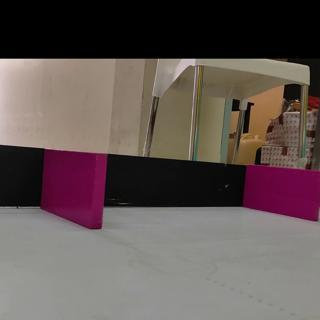xparking: (45, 157, 106, 232), (245, 169, 320, 218)
